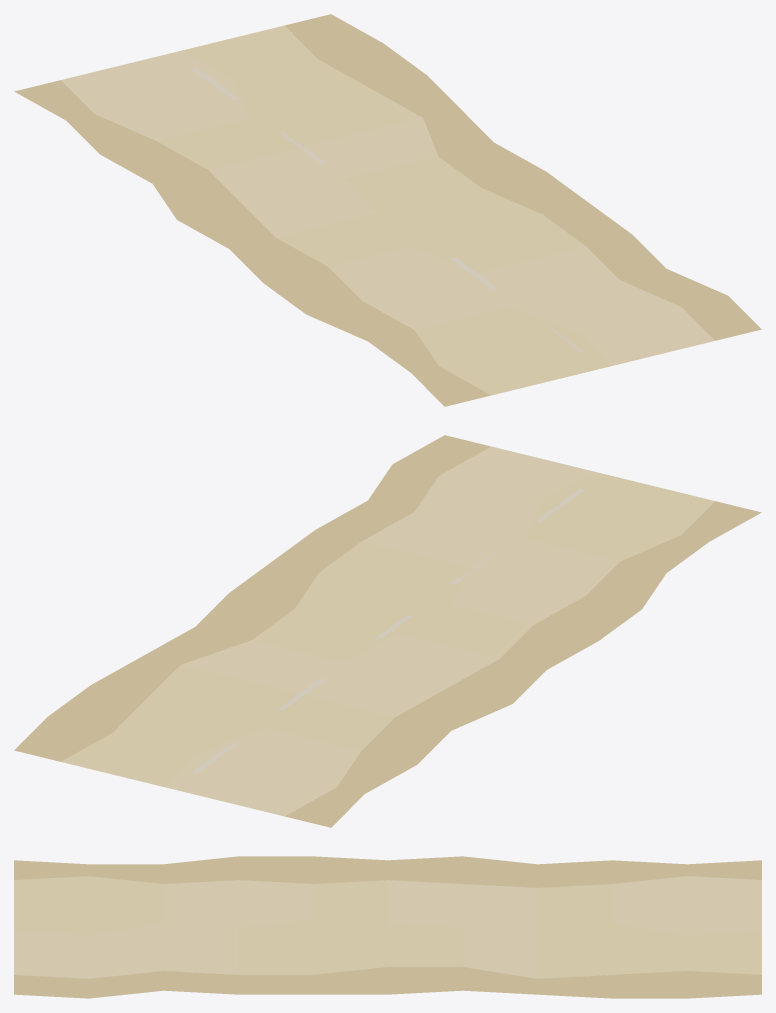
File: drod.glb
The picture shows the model from 3 angles, top to bottom: view 1: azimuth 30°, elevation 25°; view 2: azimuth 150°, elevation 25°; view 3: azimuth 270°, elevation 25°; orthographic projection. The views are drawn at different scales.
Parts seen in each view (by area): view 1: drod; view 2: drod; view 3: drod.
Boxes of the visible parts, left/top/right/bottom form: drod: left=14, top=14, right=761, bottom=406; drod: left=14, top=435, right=761, bottom=827; drod: left=14, top=856, right=761, bottom=998.
Size of the model in its own units: 25.2 by 1.24e-14 by 56.
